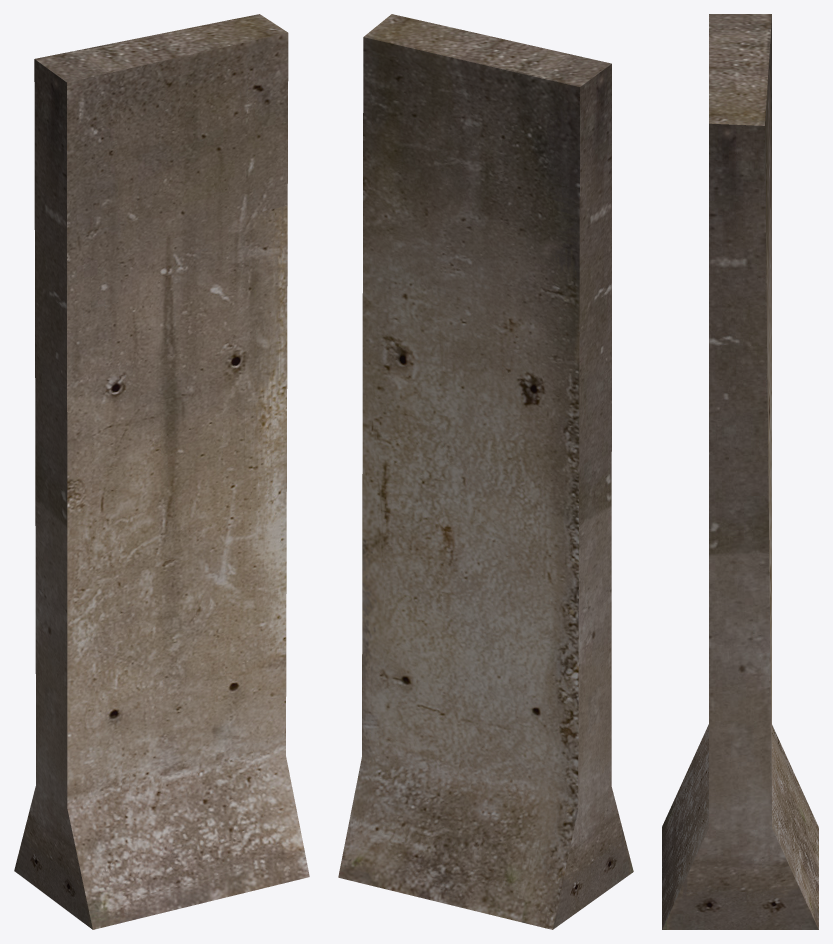
The model's file is wall1.fbx.
The picture shows the model from 3 angles, left to right: view 1: azimuth 30°, elevation 25°; view 2: azimuth 150°, elevation 25°; view 3: azimuth 270°, elevation 25°; orthographic projection. The views are drawn at different scales.
Visible parts, largest first — view 1: wall1; view 2: wall1; view 3: wall1.
Boxes of the visible parts, bbox=[...] form: wall1: bbox=[14, 14, 309, 929]; wall1: bbox=[338, 14, 633, 929]; wall1: bbox=[662, 14, 818, 929].
Bounding box in the file's own units: 48.25 × 30.24 × 173.
